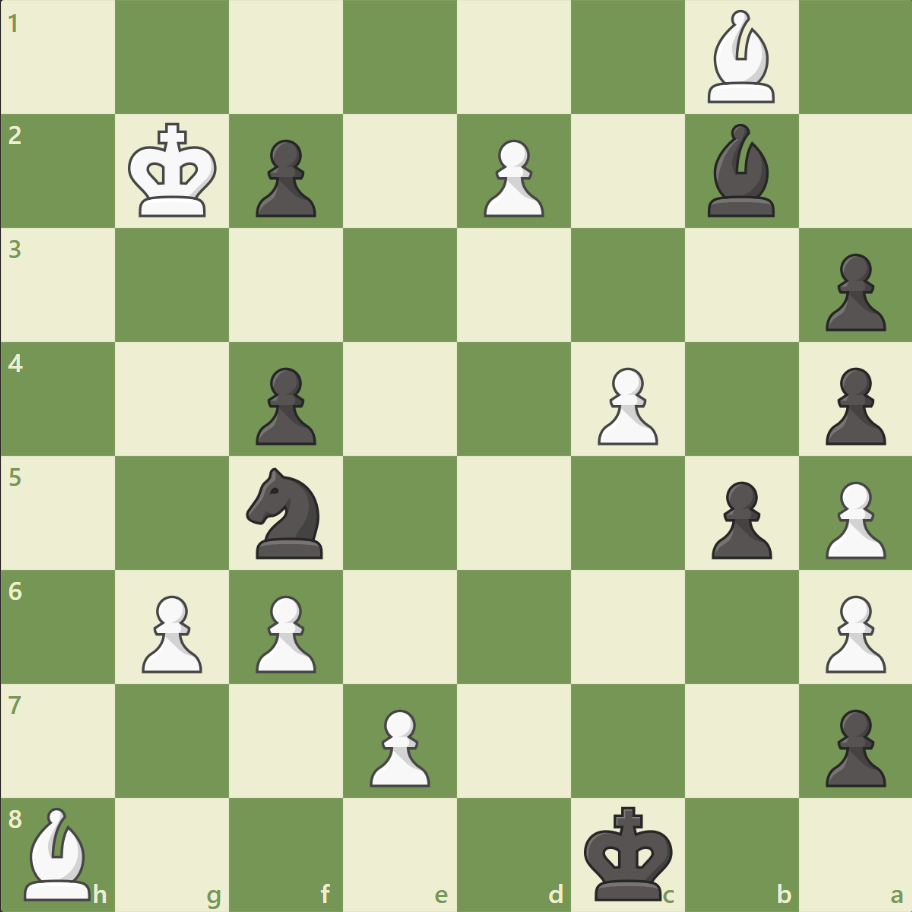B: (17, 801, 101, 904), (698, 6, 782, 109)
K: (124, 117, 224, 225)
P: (247, 586, 322, 677), (133, 586, 208, 677), (474, 132, 549, 223), (361, 700, 435, 791), (815, 586, 889, 677), (815, 473, 889, 564), (588, 359, 662, 450)
b: (698, 120, 782, 222)
k: (579, 798, 679, 906)
n: (238, 461, 335, 564)
p: (701, 473, 776, 564), (247, 359, 322, 450), (247, 132, 322, 223), (815, 700, 889, 791), (815, 359, 889, 450), (815, 246, 889, 337)
